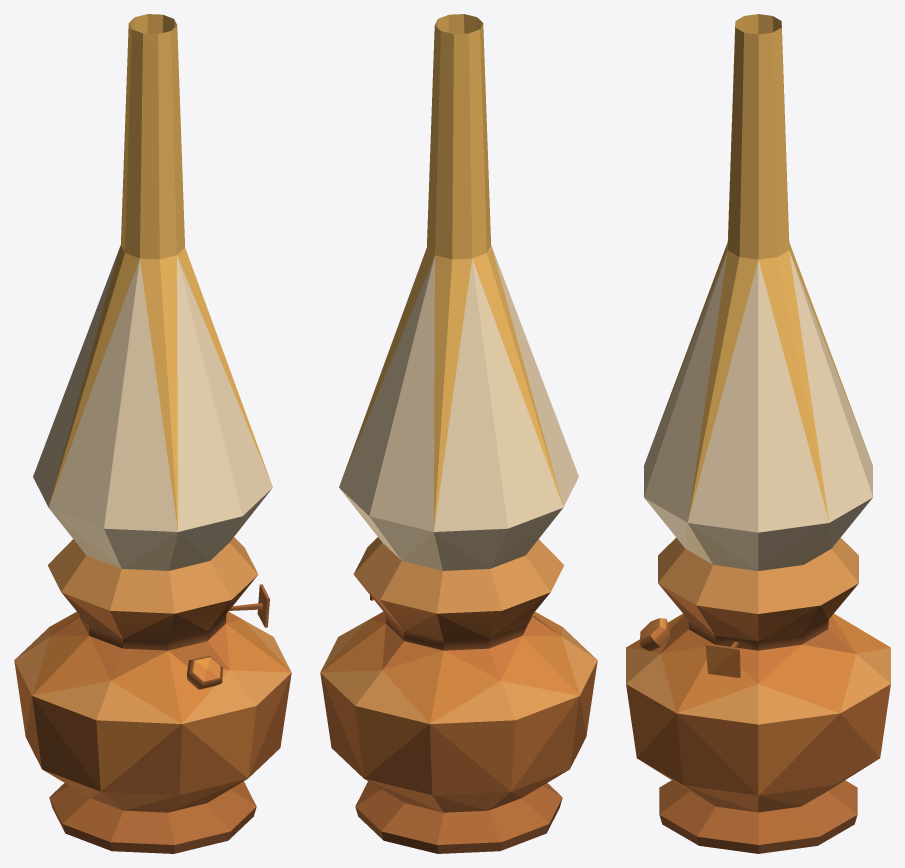
File: lamp_table_downstairs.fbx
The picture shows the model from 3 angles, left to right: view 1: azimuth 30°, elevation 25°; view 2: azimuth 150°, elevation 25°; view 3: azimuth 270°, elevation 25°; orthographic projection.
Parts seen in each view (by area): view 1: lamp_base, lamp_light; view 2: lamp_light, lamp_base; view 3: lamp_light, lamp_base.
Boxes of the visible parts, left/top/right/bottom form: lamp_base: left=14, top=537, right=291, bottom=853; lamp_light: left=33, top=14, right=272, bottom=570; lamp_light: left=339, top=14, right=578, bottom=570; lamp_base: left=320, top=537, right=597, bottom=853; lamp_light: left=644, top=14, right=872, bottom=570; lamp_base: left=626, top=537, right=890, bottom=853.
Size of the model in its own units: 15 by 46.74 by 14.27.
